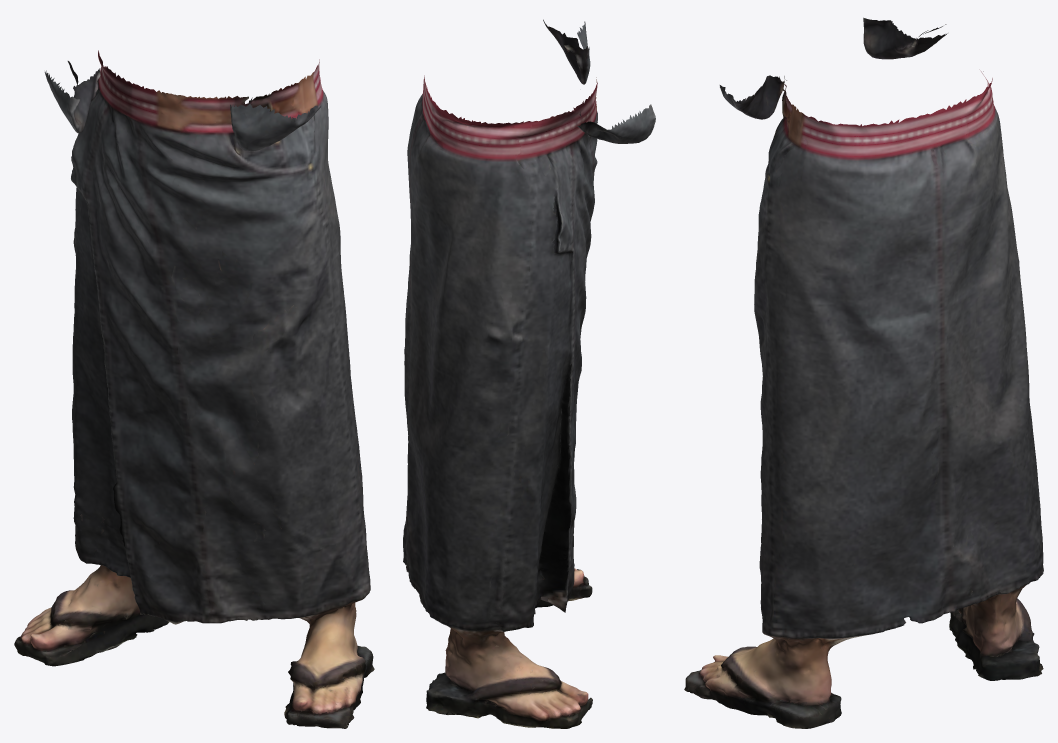
Rendered from nagase_base.glb.
3 views of the same model, side by side, from view 1: azimuth 30°, elevation 25°; view 2: azimuth 150°, elevation 25°; view 3: azimuth 270°, elevation 25° (orthographic). The views are drawn at different scales.
Visible parts, largest first — view 1: base; view 2: base; view 3: base.
Boxes of the visible parts, x1,y1,x2,y2 form: base: (14,50,374,728); base: (403,19,655,728); base: (684,17,1043,728).
Bounding box in the file's own units: 6.67 × 14.53 × 7.96.
1 material, 1 textured.
